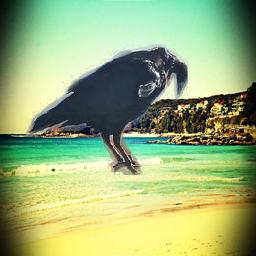Crow: (26, 45, 188, 176)
